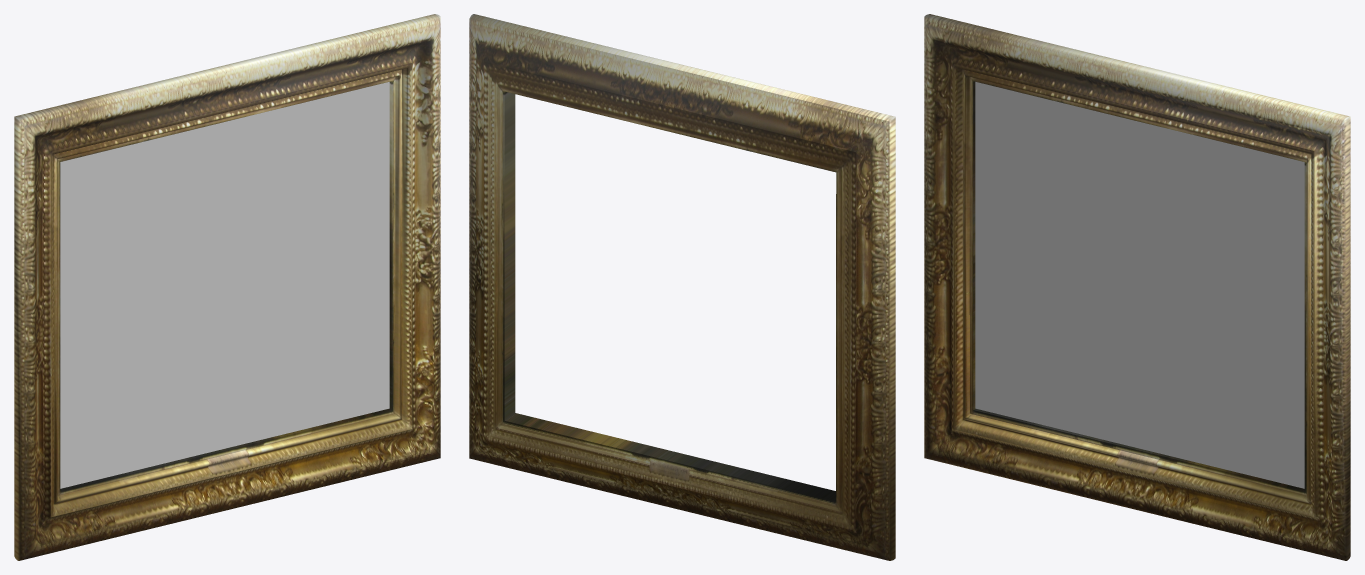
The model's file is painting.glb.
3 views of the same model, side by side, from view 1: azimuth 30°, elevation 25°; view 2: azimuth 150°, elevation 25°; view 3: azimuth 330°, elevation 25° (orthographic).
Visible parts, largest first — view 1: Rectangle10; view 2: Rectangle10; view 3: Rectangle10.
Part boxes in pixels (x1=…): Rectangle10: x1=14, y1=14, x2=440, y2=560; Rectangle10: x1=469, y1=14, x2=895, y2=560; Rectangle10: x1=924, y1=14, x2=1350, y2=560.
Bounding box in the file's own units: 2 × 2 × 0.1506.
1 material, 1 textured.
